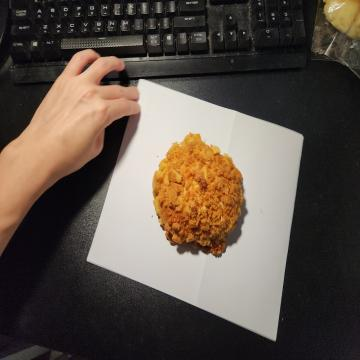soboru_bread: (151, 134, 243, 258)
